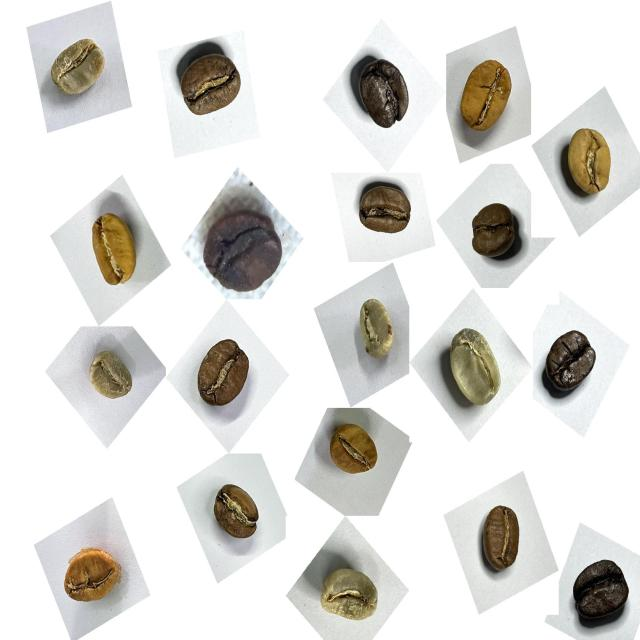bad: (191, 195, 289, 306)
dark: (343, 48, 420, 142), (565, 545, 640, 636), (538, 318, 608, 406)
green: (435, 318, 512, 421), (309, 555, 390, 638), (39, 29, 115, 113), (345, 288, 407, 373), (76, 342, 141, 413)
light: (74, 201, 147, 297), (452, 49, 524, 145), (552, 116, 622, 207), (54, 537, 129, 620), (322, 413, 389, 488)
medium: (168, 40, 252, 134), (185, 329, 260, 421), (348, 177, 419, 252), (469, 497, 532, 581), (203, 473, 268, 553), (461, 193, 526, 272)
